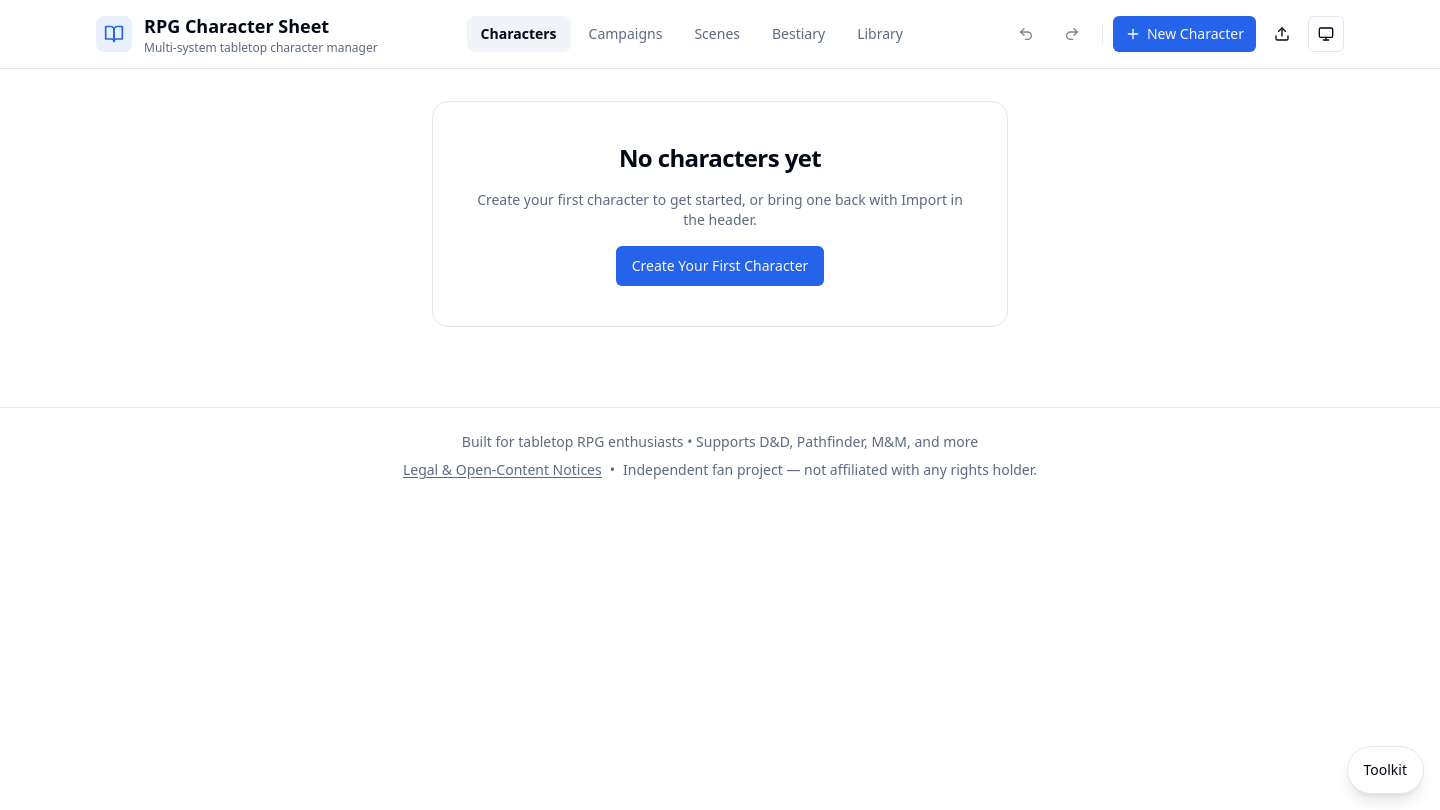
it: Character Management Flow › re-imports a previously exported V2 document via Import Character
Click the button named "import character" at (1282, 34), box x1=1262 y1=14 x2=1302 y2=54
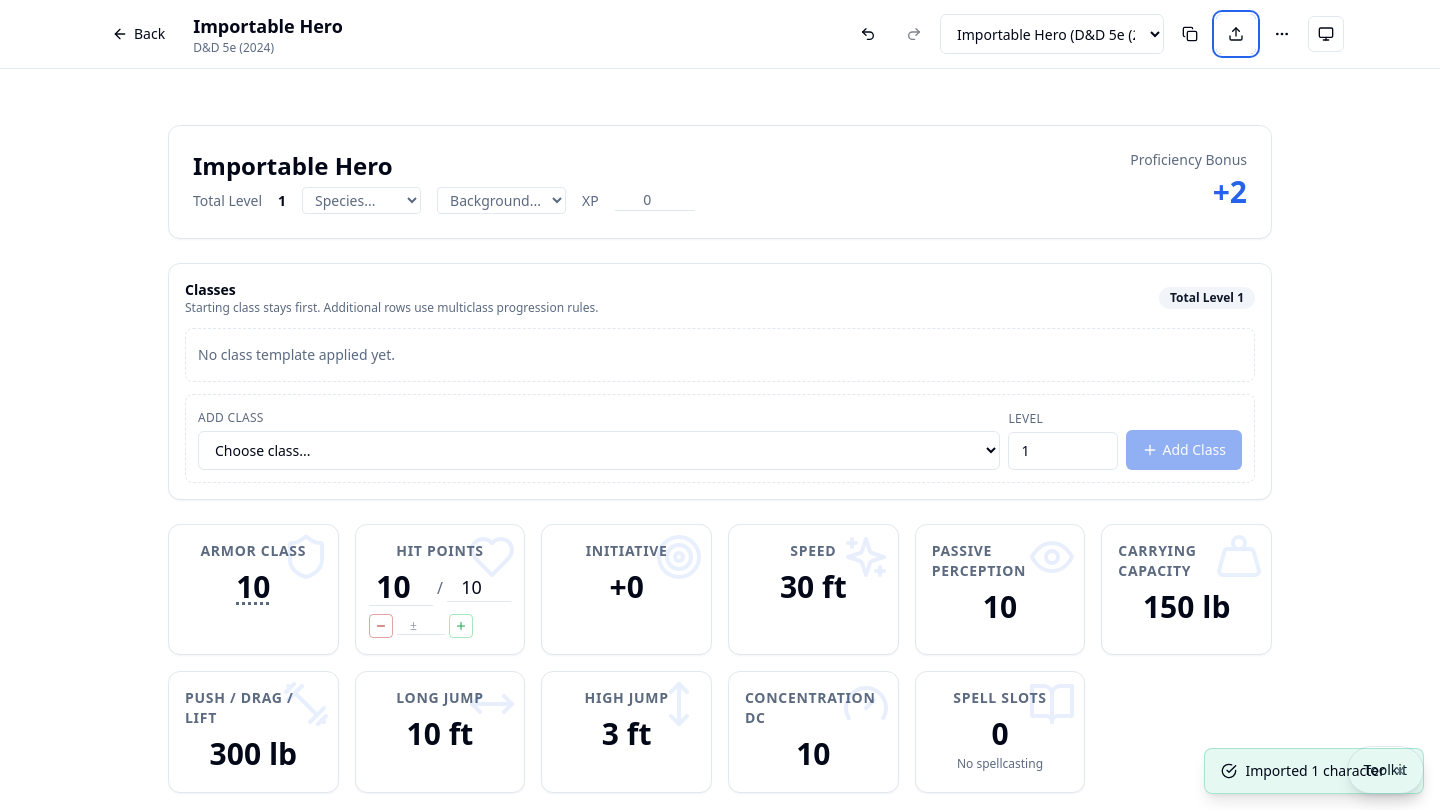
Check: the field titled "Character name" holds "Importable Hero", box x1=193 y1=150 x2=1106 y2=183
